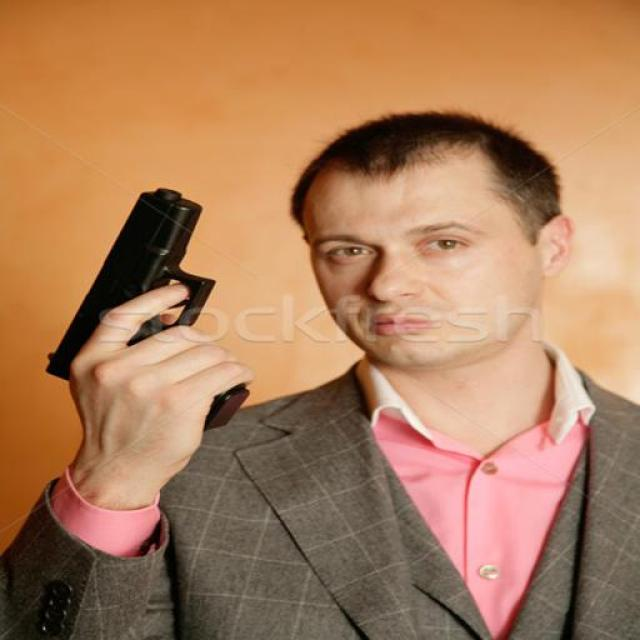pistol: (33, 165, 248, 431)
